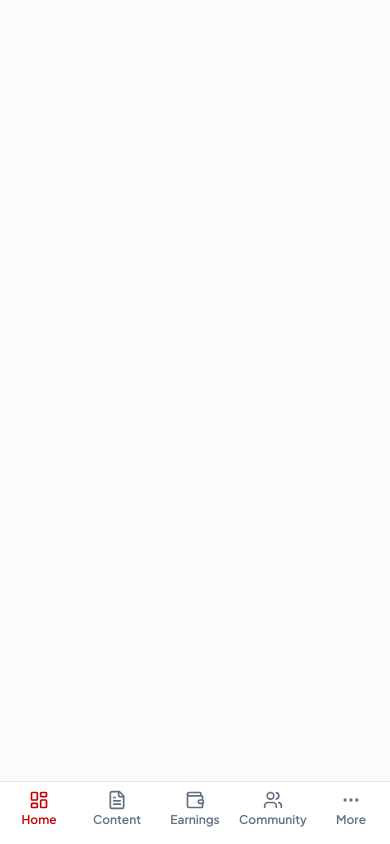
DashboardMobileNav › respects feature flags in the More sheet
What coordinates should you click on to do the following:
click the button "More"
I would click on:
 (351, 809)
Its box is [312,782,389,836].
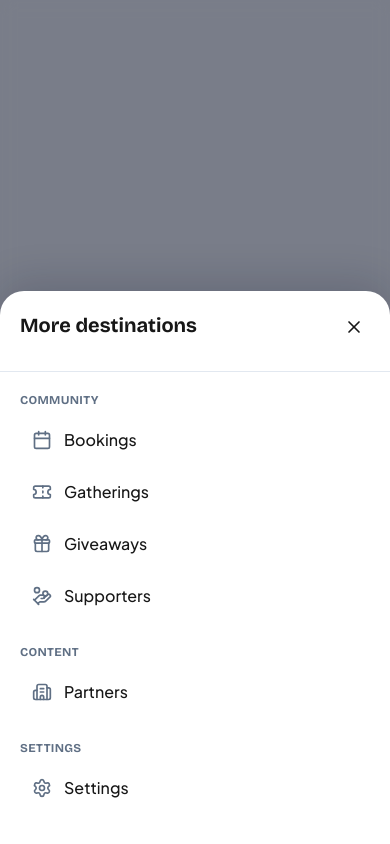
Now the link "Supporters" is shown, box [32,585,151,606]
